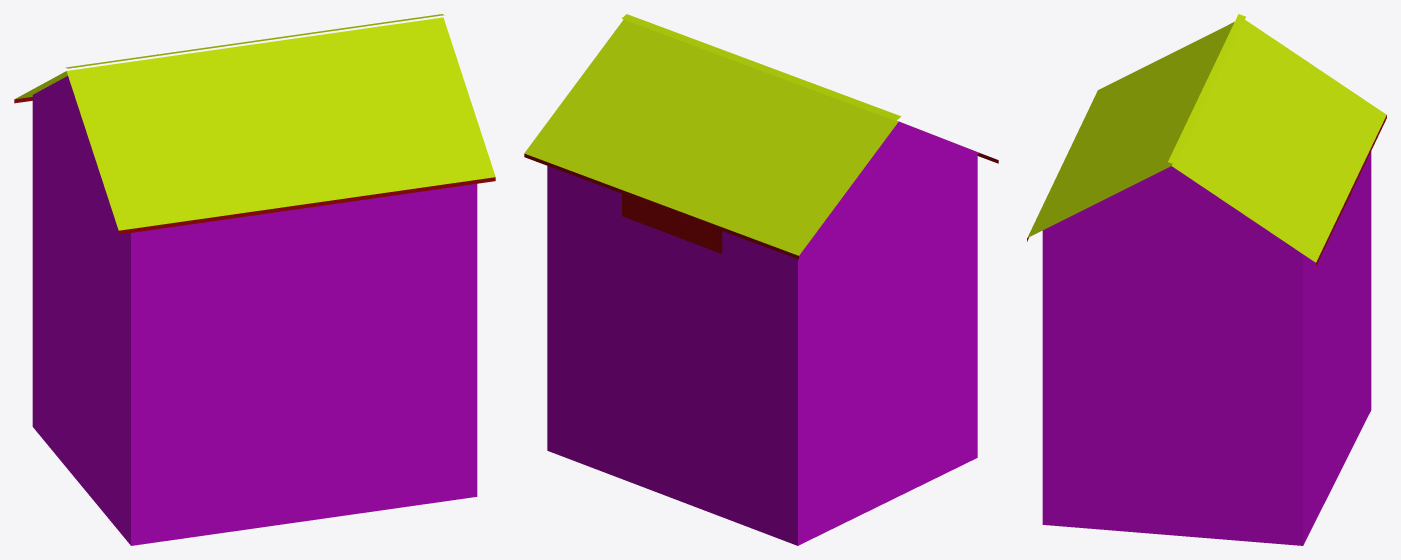
File: bgj_307.glb
The picture shows the model from 3 angles, left to right: view 1: azimuth 30°, elevation 25°; view 2: azimuth 150°, elevation 25°; view 3: azimuth 270°, elevation 25°; orthographic projection. The views are drawn at different scales.
Visible parts, largest first — view 1: bgj_307; view 2: bgj_307; view 3: bgj_307.
Part boxes in pixels (x1,y1,x2,y2): bgj_307: [14, 14, 495, 545]; bgj_307: [524, 14, 998, 545]; bgj_307: [1027, 14, 1386, 545].
Size of the model in its own units: 12.5 by 12.78 by 10.99.
